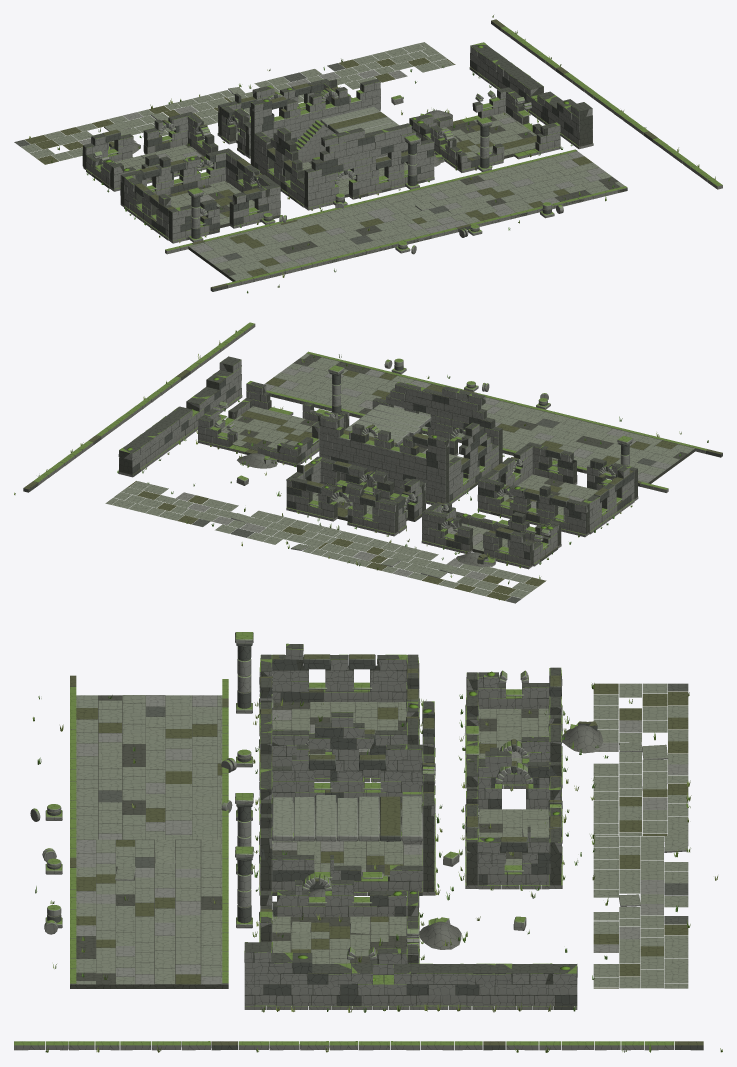
File: ruin_city_east.glb
3 views of the same model, one above another, from view 1: azimuth 30°, elevation 25°; view 2: azimuth 150°, elevation 25°; view 3: azimuth 270°, elevation 25° (orthographic). The views are drawn at different scales.
Parts seen in each view (by area): view 1: ruin_city_east.001; view 2: ruin_city_east.001; view 3: ruin_city_east.001.
Part boxes in pixels (<box>): ruin_city_east.001: <box>14,15,722,293</box>; ruin_city_east.001: <box>14,322,722,603</box>; ruin_city_east.001: <box>14,632,722,1052</box>.
Size of what is drawn, in the model's own units: 55 by 7.14 by 44.71.
9 materials, 9 textured.
